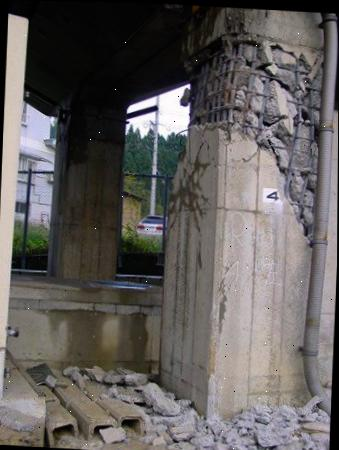spalling: (189, 42, 322, 234)
